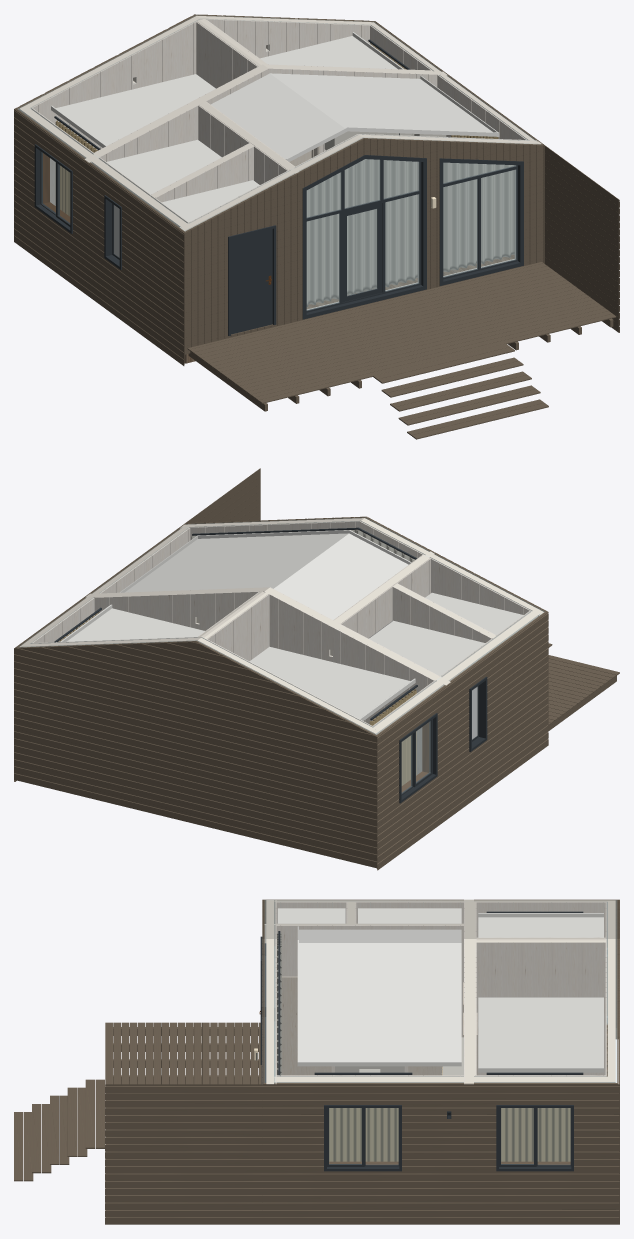
Rendered from first-room-mobile.glb.
3 renders of one model, top to bottom at view 1: azimuth 30°, elevation 25°; view 2: azimuth 150°, elevation 25°; view 3: azimuth 270°, elevation 25°, orthographic. The views are drawn at different scales.
Parts seen in each view (by area): view 1: floor_living, window_south_living, wall_south_living, wall_west_bathroom, ceiling_living, curtains_living_panorama_right, wall_east_living, wall_north_bedroom_west, floor_entry, ceiling_bedroom_west, curtains_living_panorama_left, door_south_entry (+10 smaller); view 2: wall_north_bedroom_west, wall_west_bathroom, ceiling_living, wall_interior_bedroom_west, wall_south_living, ceiling_bedroom_west, wall_interior_bathroom, wall_east_living, ceiling_bathroom, floor_living, ceiling_bedroom_east, window_west_bedroom_west (+4 smaller); view 3: wall_east_living, ceiling_living, floor_living, ceiling_bedroom_east, wall_interior_bedroom_east, floor_entry, window_east_bedroom_east, window_east_living, wall_west_bathroom, ceiling_bedroom_west, wall_interior_bathroom, wall_south_living (+13 smaller).
Part boxes in pixels (x1=…): floor_living: x1=187, y1=254, x2=616, y2=411; window_south_living: x1=302, y1=155, x2=523, y2=319; wall_south_living: x1=179, y1=134, x2=544, y2=354; wall_west_bathroom: x1=14, y1=108, x2=188, y2=365; ceiling_living: x1=211, y1=73, x2=499, y2=161; curtains_living_panorama_right: x1=355, y1=159, x2=514, y2=292; wall_east_living: x1=370, y1=21, x2=619, y2=332; wall_north_bedroom_west: x1=14, y1=14, x2=376, y2=235; floor_entry: x1=184, y1=343, x2=548, y2=439; ceiling_bedroom_west: x1=51, y1=74, x2=215, y2=150; curtains_living_panorama_left: x1=306, y1=165, x2=355, y2=306; door_south_entry: x1=228, y1=225, x2=276, y2=335; wall_north_bedroom_west: x1=14, y1=637, x2=379, y2=868; wall_west_bathroom: x1=373, y1=611, x2=548, y2=870; ceiling_living: x1=120, y1=527, x2=417, y2=619; wall_interior_bedroom_west: x1=85, y1=588, x2=449, y2=774; wall_south_living: x1=180, y1=516, x2=547, y2=616; ceiling_bedroom_west: x1=249, y1=646, x2=417, y2=720; wall_interior_bathroom: x1=333, y1=551, x2=495, y2=642; wall_east_living: x1=14, y1=468, x2=260, y2=781; ceiling_bathroom: x1=369, y1=620, x2=485, y2=675; floor_living: x1=548, y1=655, x2=619, y2=730; ceiling_bedroom_east: x1=54, y1=604, x2=204, y2=642; window_west_bedroom_west: x1=399, y1=713, x2=437, y2=803; wall_east_living: x1=105, y1=1075, x2=619, y2=1224; ceiling_living: x1=278, y1=926, x2=461, y2=1075; floor_living: x1=105, y1=1022, x2=261, y2=1084; ceiling_bedroom_east: x1=478, y1=997, x2=603, y2=1074; wall_interior_bedroom_east: x1=473, y1=941, x2=606, y2=1075; floor_entry: x1=14, y1=1079, x2=104, y2=1181; window_east_bedroom_east: x1=496, y1=1105, x2=573, y2=1171; window_east_living: x1=324, y1=1105, x2=401, y2=1171; wall_west_bathroom: x1=263, y1=899, x2=618, y2=1039; ceiling_bedroom_west: x1=478, y1=911, x2=603, y2=937; wall_interior_bathroom: x1=264, y1=902, x2=466, y2=1076; wall_south_living: x1=262, y1=899, x2=276, y2=1151.
Size of the model in its own units: 8.25 by 4.28 by 11.27.
31 materials, 13 textured.
